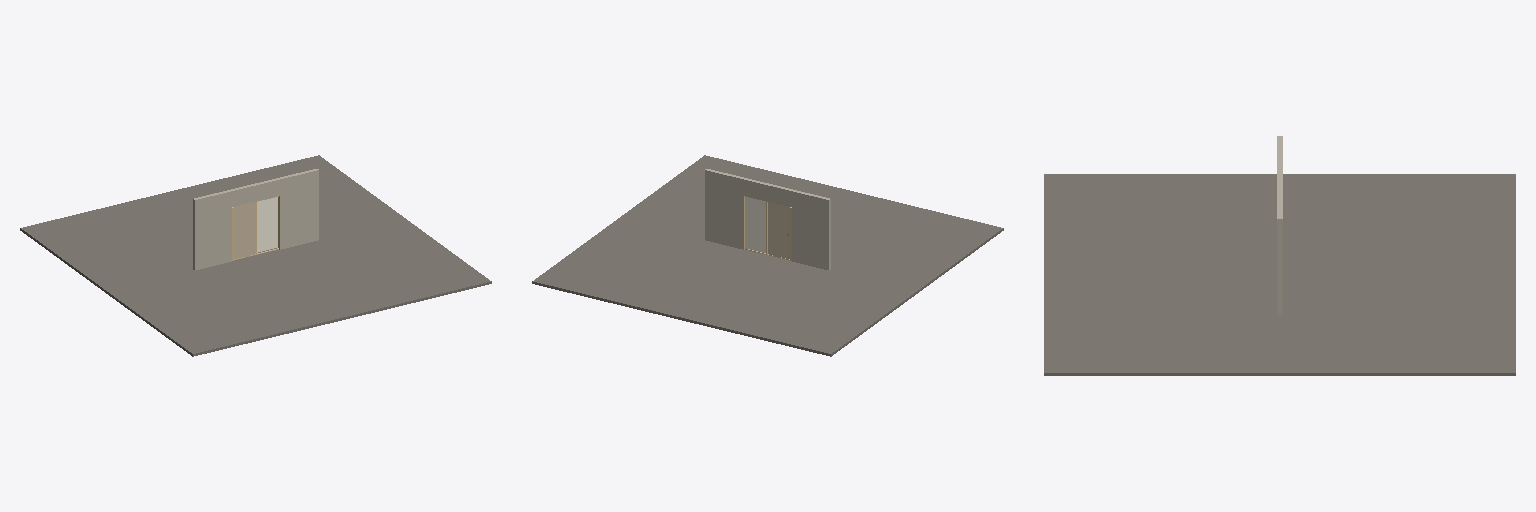
robot.urdf — db0262_sliding_single_full:
<?xml version="1.0" ?>
<robot xmlns:doorbench="https://github.com/adamraudonis/DoorBench/schema/urdf-ext" name="db0262_sliding_single_full">
  <link name="world_env">
    <visual name="floor_vis">
      <origin xyz="0 0 -0.05" rpy="0 0 0"/>
      <geometry>
        <box size="12 12 0.1"/>
      </geometry>
      <material name="mat_floor"/>
    </visual>
    <collision name="floor_col">
      <origin xyz="0 0 -0.05" rpy="0 0 0"/>
      <geometry>
        <box size="12 12 0.1"/>
      </geometry>
    </collision>
    <visual name="wall_left_vis">
      <origin xyz="-1.7445 0 1.35" rpy="0 0 0"/>
      <geometry>
        <box size="1.511 0.145 2.7"/>
      </geometry>
      <material name="mat_wall"/>
    </visual>
    <collision name="wall_left_col">
      <origin xyz="-1.7445 0 1.35" rpy="0 0 0"/>
      <geometry>
        <box size="1.511 0.145 2.7"/>
      </geometry>
    </collision>
    <visual name="wall_right_vis">
      <origin xyz="1.7145 0 1.35" rpy="0 0 0"/>
      <geometry>
        <box size="1.571 0.145 2.7"/>
      </geometry>
      <material name="mat_wall"/>
    </visual>
    <collision name="wall_right_col">
      <origin xyz="1.7145 0 1.35" rpy="0 0 0"/>
      <geometry>
        <box size="1.571 0.145 2.7"/>
      </geometry>
    </collision>
    <visual name="wall_header_vis">
      <origin xyz="-0.03 0 2.3895" rpy="0 0 0"/>
      <geometry>
        <box size="1.918 0.145 0.621"/>
      </geometry>
      <material name="mat_wall"/>
    </visual>
    <collision name="wall_header_col">
      <origin xyz="-0.03 0 2.3895" rpy="0 0 0"/>
      <geometry>
        <box size="1.918 0.145 0.621"/>
      </geometry>
    </collision>
    <visual name="jamb_r_vis">
      <origin xyz="0.9195 0 1.03" rpy="0 0 0"/>
      <geometry>
        <box size="0.019 0.145 2.06"/>
      </geometry>
      <material name="mat_frame"/>
    </visual>
    <collision name="jamb_r_col">
      <origin xyz="0.9195 0 1.03" rpy="0 0 0"/>
      <geometry>
        <box size="0.019 0.145 2.06"/>
      </geometry>
    </collision>
    <visual name="jamb_head_vis">
      <origin xyz="0 0 2.0695" rpy="0 0 0"/>
      <geometry>
        <box size="1.858 0.145 0.019"/>
      </geometry>
      <material name="mat_frame"/>
    </visual>
    <collision name="jamb_head_col">
      <origin xyz="0 0 2.0695" rpy="0 0 0"/>
      <geometry>
        <box size="1.858 0.145 0.019"/>
      </geometry>
    </collision>
    <visual name="fixed_panel_glass_vis">
      <origin xyz="0.455 0.04 1.03" rpy="0 0 0"/>
      <geometry>
        <box size="0.87 0.006 1.96"/>
      </geometry>
      <material name="mat_fixed_shoji"/>
    </visual>
    <collision name="fixed_panel_glass_col">
      <origin xyz="0.455 0.04 1.03" rpy="0 0 0"/>
      <geometry>
        <box size="0.87 0.006 1.96"/>
      </geometry>
    </collision>
    <visual name="fixed_panel_stile_vis">
      <origin xyz="0.03 0.04 1.03" rpy="0 0 0"/>
      <geometry>
        <box size="0.06 0.024 2.06"/>
      </geometry>
      <material name="mat_frame"/>
    </visual>
    <collision name="fixed_panel_stile_col">
      <origin xyz="0.03 0.04 1.03" rpy="0 0 0"/>
      <geometry>
        <box size="0.06 0.024 2.06"/>
      </geometry>
    </collision>
    <visual name="shikii_vis">
      <origin xyz="-0.005 0 0.012" rpy="0 0 0"/>
      <geometry>
        <box size="1.9 0.05 0.024"/>
      </geometry>
      <material name="mat_shikii"/>
    </visual>
    <collision name="shikii_col">
      <origin xyz="-0.005 0 0.012" rpy="0 0 0"/>
      <geometry>
        <box size="1.9 0.05 0.024"/>
      </geometry>
    </collision>
    <visual name="kamoi_vis">
      <origin xyz="-0.005 0 2.09" rpy="0 0 0"/>
      <geometry>
        <box size="1.9 0.05 0.06"/>
      </geometry>
      <material name="mat_shikii"/>
    </visual>
    <collision name="kamoi_col">
      <origin xyz="-0.005 0 2.09" rpy="0 0 0"/>
      <geometry>
        <box size="1.9 0.05 0.06"/>
      </geometry>
    </collision>
    <visual name="jamb_latch_0_vis">
      <origin xyz="-0.9495 0 1.03" rpy="0 0 0"/>
      <geometry>
        <box size="0.079 0.145 2.06"/>
      </geometry>
      <material name="mat_frame"/>
    </visual>
    <collision name="jamb_latch_0_col">
      <origin xyz="-0.9495 0 1.03" rpy="0 0 0"/>
      <geometry>
        <box size="0.079 0.145 2.06"/>
      </geometry>
    </collision>
  </link>
  <link name="leaf">
    <inertial>
      <origin xyz="-0.000062 0.000001 1.026987" rpy="0 0 0"/>
      <mass value="43.23"/>
      <inertia ixx="14.410824857" ixy="0.000014513" ixz="-0.0002052" iyy="17.326067221" iyz="0.000003104" izz="2.921729312"/>
    </inertial>
    <visual name="leaf_slab_vis">
      <origin xyz="0 0 1.027" rpy="0 0 0"/>
      <geometry>
        <box size="0.9 0.03 2"/>
      </geometry>
      <material name="mat_leaf"/>
    </visual>
    <collision name="leaf_slab_col">
      <origin xyz="0 0 1.027" rpy="0 0 0"/>
      <geometry>
        <box size="0.9 0.03 2"/>
      </geometry>
    </collision>
    <visual name="leaf_pull_n_vis">
      <origin xyz="-0.36 -0.0155 0.95" rpy="0 0 0"/>
      <geometry>
        <box size="0.03 0.001 0.08"/>
      </geometry>
      <material name="mat_op_hinoki"/>
    </visual>
    <visual name="leaf_ext_pull_p_vis">
      <origin xyz="-0.36 0.0155 0.95" rpy="0 0 0"/>
      <geometry>
        <box size="0.05 0.001 0.1"/>
      </geometry>
      <material name="mat_op_nickel_satin"/>
    </visual>
  </link>
  <joint name="leaf_slide" type="prismatic">
    <origin xyz="-0.455 0 0" rpy="0 0 0"/>
    <parent link="world_env"/>
    <child link="leaf"/>
    <axis xyz="1 0 0"/>
    <limit lower="0" upper="0.9" effort="5000" velocity="10"/>
    <dynamics damping="4.1615" friction="101.745955"/>
  </joint>
  <material name="mat_fixed_shoji">
    <color rgba="0.98 0.96 0.9 0.45"/>
  </material>
  <material name="mat_floor">
    <color rgba="0.55 0.53 0.5 1"/>
  </material>
  <material name="mat_frame">
    <color rgba="0.88 0.78 0.6 1"/>
  </material>
  <material name="mat_leaf">
    <color rgba="0.841 0.783 0.695 1"/>
  </material>
  <material name="mat_op_hinoki">
    <color rgba="0.88 0.78 0.6 1"/>
  </material>
  <material name="mat_op_nickel_satin">
    <color rgba="0.72 0.7 0.66 1"/>
  </material>
  <material name="mat_shikii">
    <color rgba="0.88 0.78 0.6 1"/>
  </material>
  <material name="mat_wall">
    <color rgba="0.78 0.76 0.7 1"/>
  </material>
</robot>

--- Render facts (derived) ---
Views: 3 orthographic renders of the robot side by side, from view 1: azimuth 30°, elevation 25°; view 2: azimuth 150°, elevation 25°; view 3: azimuth 270°, elevation 25°.
Model db0262_sliding_single_full with 2 links and 1 joints (1 prismatic), rooted at world_env, posed all joints at 0.
Visible links, largest first — view 1: world_env, leaf; view 2: world_env, leaf; view 3: world_env.
Link boxes in pixels (x1,y1,x2,y2): world_env: (20,155,491,356); leaf: (234,202,255,258); world_env: (532,155,1003,356); leaf: (768,202,789,258); world_env: (1044,136,1515,375).
Size in the robot's own frame: 12 by 12 by 2.8 metres.
Geometry: primitives only (box / cylinder / sphere), no mesh files.
